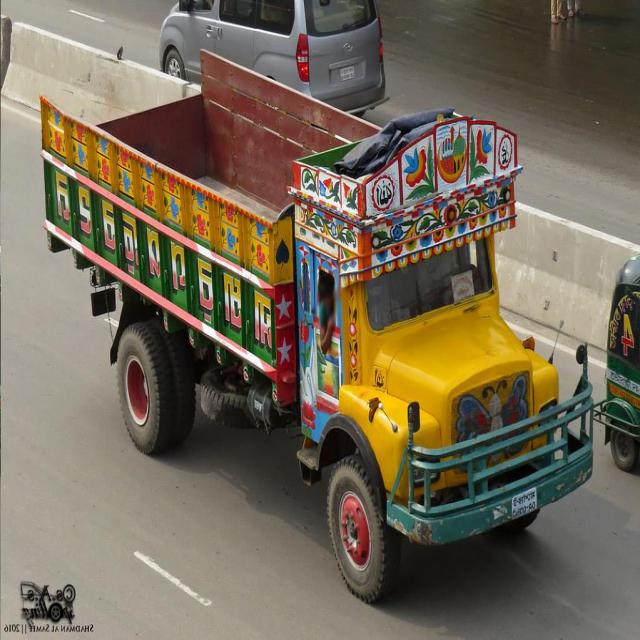car: (163, 0, 392, 113)
truck: (19, 46, 597, 607)
